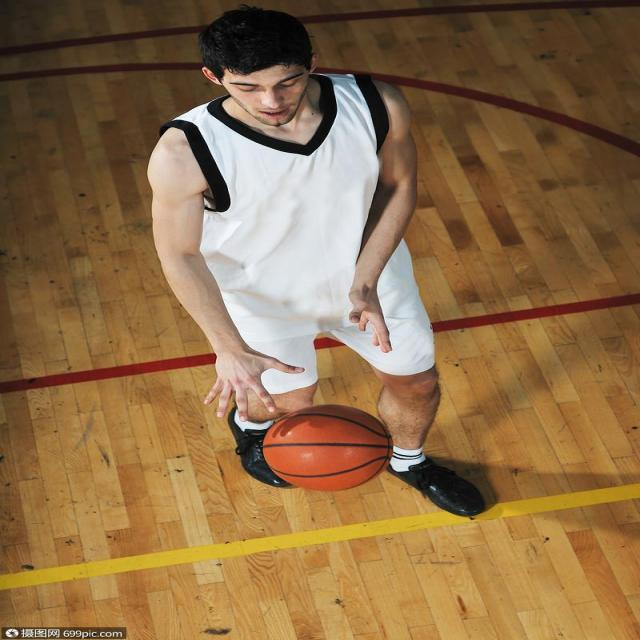rim: (264, 402, 396, 493)
